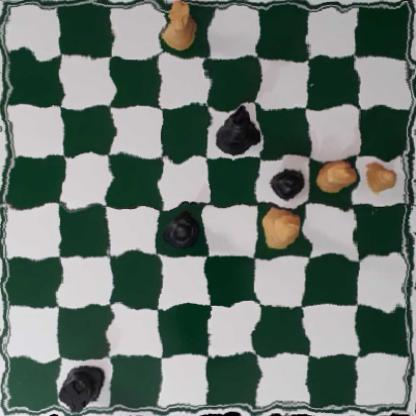black-king: (212, 104, 257, 155)
black-pawn: (162, 210, 200, 248), (268, 159, 303, 196)
black-rook: (60, 363, 107, 408)
white-bishop: (315, 156, 355, 193)
white-king: (261, 203, 307, 249)
white-pawn: (359, 160, 393, 193)
white-rook: (161, 0, 198, 50)
